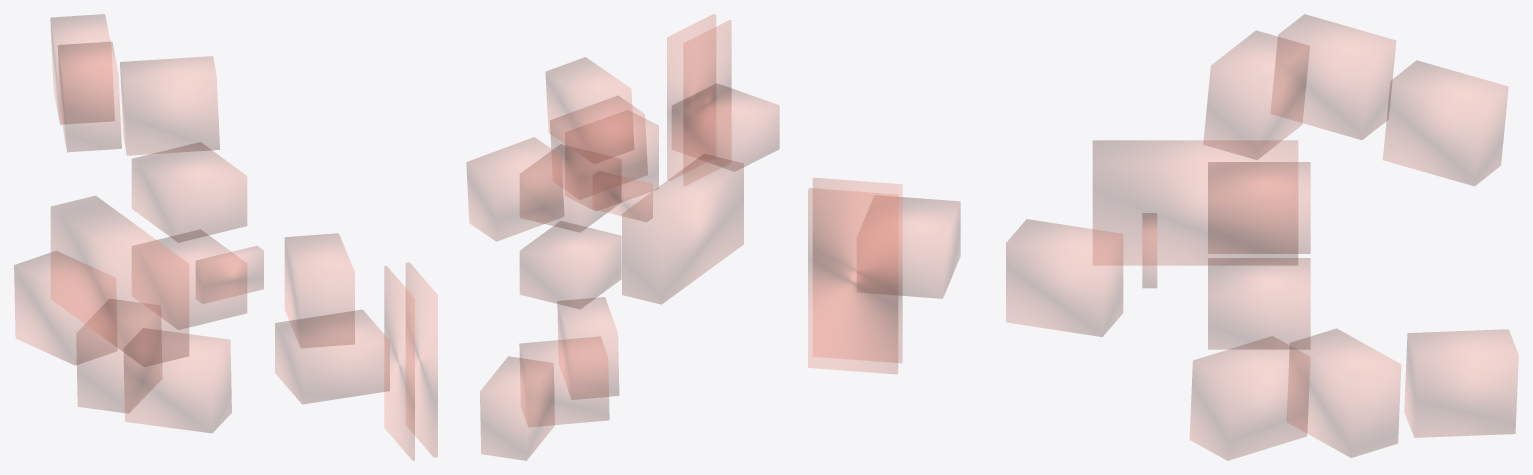
3 renders of one model, left to right at view 1: azimuth 30°, elevation 25°; view 2: azimuth 150°, elevation 25°; view 3: azimuth 270°, elevation 25°, orthographic. The views are drawn at different scales.
Visible parts, largest first — view 1: SYS-POWER, ACT-R-KNEE-PITCH, ACT-L-KNEE-PITCH, ACT-HEAD-YAW, ACT-L-HIP-ROLL, ACT-R-HIP-ROLL, ACT-R-ANKLE-PITCH, ACT-NECK-PITCH, ACT-R-HIP-PITCH, ACT-L-HIP-PITCH, ACT-L-ANKLE-PITCH, SYS-COMPUTE (+2 smaller); view 2: SYS-POWER, ACT-L-ANKLE-PITCH, ACT-L-HIP-PITCH, ACT-R-HIP-PITCH, ACT-HEAD-YAW, ACT-L-KNEE-PITCH, ACT-R-HIP-ROLL, SYS-MOTION-CONTROL, ACT-R-ANKLE-PITCH, ACT-L-HIP-ROLL, ACT-R-KNEE-PITCH, SYS-COMPUTE (+2 smaller); view 3: SYS-POWER, SYS-COMPUTE, SYS-MOTION-CONTROL, ACT-L-ANKLE-PITCH, ACT-L-HIP-PITCH, ACT-R-KNEE-PITCH, ACT-NECK-PITCH, ACT-R-ANKLE-PITCH, ACT-R-HIP-PITCH, ACT-L-KNEE-PITCH, ACT-L-HIP-ROLL, ACT-R-HIP-ROLL (+2 smaller).
Boxes of the visible parts, left/top/right/bottom form: SYS-POWER: left=51, top=196, right=188, bottom=366; ACT-R-KNEE-PITCH: left=124, top=328, right=231, bottom=432; ACT-L-KNEE-PITCH: left=120, top=56, right=219, bottom=155; ACT-HEAD-YAW: left=275, top=310, right=389, bottom=404; ACT-L-HIP-ROLL: left=132, top=142, right=246, bottom=242; ACT-R-HIP-ROLL: left=132, top=230, right=246, bottom=329; ACT-R-ANKLE-PITCH: left=14, top=251, right=116, bottom=365; ACT-NECK-PITCH: left=285, top=233, right=354, bottom=347; ACT-R-HIP-PITCH: left=76, top=299, right=161, bottom=412; ACT-L-HIP-PITCH: left=58, top=42, right=121, bottom=151; ACT-L-ANKLE-PITCH: left=50, top=14, right=114, bottom=124; SYS-COMPUTE: left=406, top=262, right=437, bottom=457; SYS-POWER: left=622, top=154, right=743, bottom=304; ACT-L-ANKLE-PITCH: left=466, top=137, right=563, bottom=241; ACT-L-HIP-PITCH: left=550, top=96, right=647, bottom=199; ACT-R-HIP-PITCH: left=519, top=336, right=609, bottom=426; ACT-HEAD-YAW: left=672, top=83, right=779, bottom=171; ACT-L-KNEE-PITCH: left=545, top=57, right=633, bottom=163; ACT-R-HIP-ROLL: left=520, top=221, right=621, bottom=308; SYS-MOTION-CONTROL: left=683, top=20, right=731, bottom=185; ACT-R-ANKLE-PITCH: left=480, top=356, right=554, bottom=460; ACT-L-HIP-ROLL: left=520, top=144, right=621, bottom=232; ACT-R-KNEE-PITCH: left=557, top=297, right=618, bottom=399; SYS-COMPUTE: left=667, top=14, right=715, bottom=180; SYS-POWER: left=1093, top=140, right=1297, bottom=265; SYS-COMPUTE: left=808, top=188, right=897, bottom=373; SYS-MOTION-CONTROL: left=813, top=178, right=902, bottom=362; ACT-L-ANKLE-PITCH: left=1383, top=60, right=1508, bottom=185; ACT-L-HIP-PITCH: left=1271, top=14, right=1395, bottom=139; ACT-R-KNEE-PITCH: left=1190, top=336, right=1310, bottom=460; ACT-NECK-PITCH: left=1006, top=219, right=1122, bottom=336; ACT-R-ANKLE-PITCH: left=1404, top=329, right=1518, bottom=437; ACT-R-HIP-PITCH: left=1287, top=328, right=1400, bottom=457; ACT-L-KNEE-PITCH: left=1203, top=30, right=1309, bottom=159; ACT-L-HIP-ROLL: left=1208, top=162, right=1310, bottom=253; ACT-R-HIP-ROLL: left=1208, top=258, right=1310, bottom=349.
Bounding box in the file's own units: 0.0835 × 0.142 × 0.2352.
